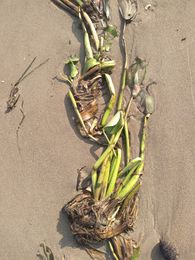water_hyacinth: (43, 1, 161, 258)
